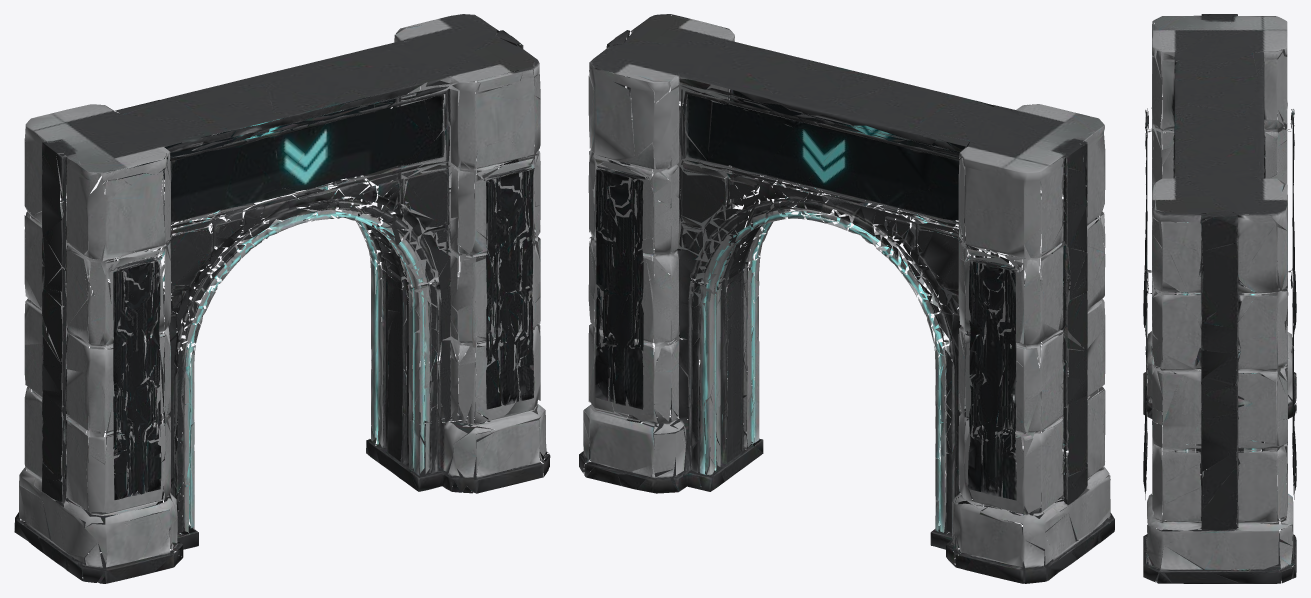
File: plaza-arch.glb
The picture shows the model from 3 angles, left to right: view 1: azimuth 30°, elevation 25°; view 2: azimuth 150°, elevation 25°; view 3: azimuth 270°, elevation 25°; orthographic projection. The views are drawn at different scales.
Bounding box in the file's own units: 1.9 × 1.58 × 0.5994.
Materials: 1 (1 with a texture image).
